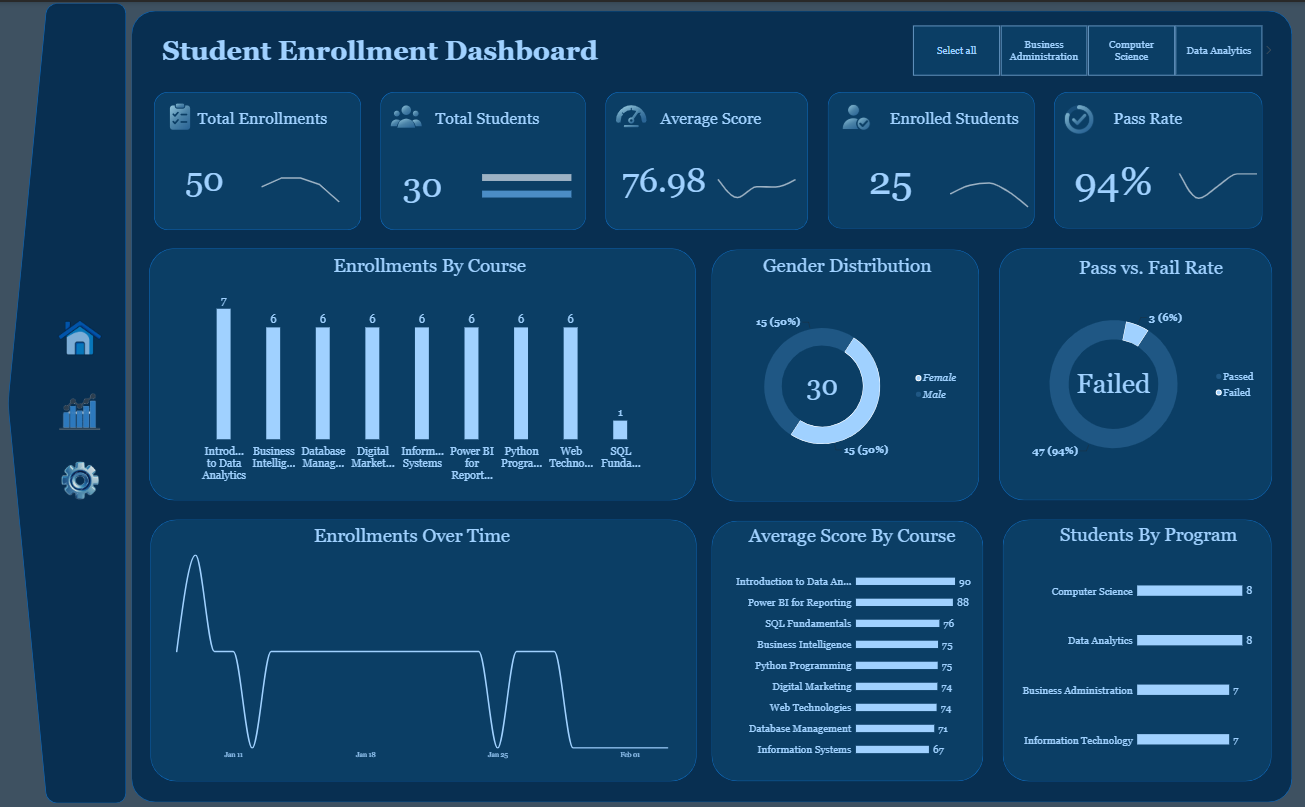

What the dashboard file says about the page in this screenshot:
{"tool":"powerbi","page":{"name":"Student Enrollment ","canvas":[2600,1600],"ordinal":0},"visuals":[{"type":"shape","box":[16.9,3.3,234.1,1583.2],"z":0},{"type":"shape","box":[262,16.7,2296.7,1566.5],"z":1000},{"type":"shape","box":[297,488.4,1082.5,499],"z":2000},{"type":"shape","box":[754.7,178.4,406.9,273.2],"z":3000},{"type":"shape","box":[2087.7,178.4,412.5,270.4],"z":4000},{"type":"shape","box":[1639.6,178.4,409.7,270.4],"z":5000},{"type":"shape","box":[306.6,178.4,409.7,273.2],"z":6000},{"type":"shape","box":[1199.9,178.4,401.4,273.2],"z":7000},{"type":"shape","box":[298.2,1022.9,1081.5,518.4],"z":8000},{"type":"shape","box":[1410.4,490.6,529.6,498.9],"z":9000},{"type":"shape","box":[1979,487.8,540.7,498.9],"z":10000},{"type":"shape","box":[1410.4,1025.7,538,515.7],"z":11000},{"type":"shape","box":[1987.4,1022.9,532.4,518.4],"z":12000},{"type":"image","box":[114.3,621.6,94.8,97.6],"z":13000},{"type":"image","box":[114.3,773.9,94.8,80],"z":14000},{"type":"image","box":[114.3,908.7,94,80],"z":15000},{"type":"textbox","box":[306.6,66.9,894.7,83.6],"z":16000},{"type":"textbox","box":[376.3,211.8,298.2,47.4],"z":17000},{"type":"textbox","box":[811.1,211.8,317.8,41.8],"z":18000},{"type":"textbox","box":[1276.6,211.8,264.8,47.4],"z":19000},{"type":"textbox","box":[1730.9,211.8,317.8,41.8],"z":20000},{"type":"textbox","box":[2171.3,211.8,203.5,47.4],"z":21000},{"type":"textbox","box":[2101.6,504.5,354,47.4],"z":22000},{"type":"textbox","box":[1502.4,498.9,354,47.4],"z":23000},{"type":"textbox","box":[577,498.9,551.9,47.4],"z":24000},{"type":"textbox","box":[577,1034.1,490.6,72.5],"z":25000},{"type":"textbox","box":[1438.3,1034.1,501.7,47.4],"z":26000},{"type":"textbox","box":[2098.8,1031.3,354,47.4],"z":27000},{"type":"cardVisual","fields":{"Data":["Enrollment.Total Enrollments"]},"box":[376.3,253.6,175.6,133.8],"z":28000},{"type":"cardVisual","fields":{"Data":["Enrollment.Total Students"]},"box":[811.1,264.8,167.2,108.7],"z":29000},{"type":"cardVisual","fields":{"Data":["Enrollment.Average Score"]},"box":[1257.1,242.5,242.5,142.2],"z":30000},{"type":"cardVisual","fields":{"Data":["Enrollment.Enrolled Students"]},"box":[1697.5,253.6,170,117.1],"z":31000},{"type":"cardVisual","fields":{"Data":["Enrollment.Pass Rate"]},"box":[2135.1,267.6,206.3,105.9],"z":32000},{"type":"clusteredColumnChart","fields":{"Category":["Courses.Course_Name"],"Y":["Enrollment.Total Enrollments"]},"box":[317.8,551.9,1042.5,415.3],"z":33000},{"type":"lineChart","fields":{"Category":["Date.Date.Variation.Date Hierarchy.Year","Date.Date.Variation.Date Hierarchy.Quarter","Date.Date.Variation.Date Hierarchy.Month","Date.Date.Variation.Date Hierarchy.Day"],"Y":["Enrollment.Total Enrollments"]},"box":[317.8,1070.3,1042.5,446],"z":34000},{"type":"donutChart","fields":{"Category":["Students.Gender"],"Y":["Enrollment.Total Students"]},"box":[1429.9,554.7,490.6,412.5],"z":35000},{"type":"donutChart","fields":{"Category":["Enrollment.Status"],"Y":["Enrollment.Total Enrollments"]},"box":[1998.5,546.3,490.6,412.5],"z":36000},{"type":"clusteredBarChart","fields":{"Category":["Courses.Course_Name"],"Y":["Enrollment.Average Score"]},"box":[1429.9,1078.7,510.1,462.7],"z":37000},{"type":"clusteredBarChart","fields":{"Category":["Students.Program"],"Y":["Enrollment.Total Students"]},"box":[1987.4,1106.6,510.1,409.7],"z":38000},{"type":"slicer","fields":{"Values":["Students.Program"]},"box":[1789.5,44.6,730.3,103.1],"z":39000},{"type":"image","box":[317.8,195.1,83.6,64.1],"z":40000},{"type":"image","box":[764.2,195.1,83,64],"z":41000},{"type":"image","box":[1210,189.5,83,64],"z":42000},{"type":"image","box":[1655.8,195.1,83,64.1],"z":43000},{"type":"image","box":[2101.6,200.7,69.7,64.1],"z":44000},{"type":"lineChart","fields":{"Category":["Date.Week Start.Variation.Date Hierarchy.Year","Date.Week Start.Variation.Date Hierarchy.Quarter","Date.Week Start.Variation.Date Hierarchy.Month","Date.Week Start.Variation.Date Hierarchy.Day"],"Y":["Enrollment.Total Enrollments"]},"box":[473.8,348.4,203.5,103.1],"z":45000},{"type":"lineChart","fields":{"Category":["Date.Week Start.Variation.Date Hierarchy.Year","Date.Week Start.Variation.Date Hierarchy.Quarter","Date.Week Start.Variation.Date Hierarchy.Month","Date.Week Start.Variation.Date Hierarchy.Day"],"Y":["Enrollment.Average Score"]},"box":[1379.7,356.8,203.5,103.1],"z":46000},{"type":"lineChart","fields":{"Category":["Date.Week Start.Variation.Date Hierarchy.Year","Date.Week Start.Variation.Date Hierarchy.Quarter","Date.Week Start.Variation.Date Hierarchy.Month","Date.Week Start.Variation.Date Hierarchy.Day"],"Y":["Enrollment.Enrolled Students"]},"box":[1820.1,331.7,203.5,103.1],"z":47000},{"type":"hundredPercentStackedBarChart","fields":{"Category":["Students.Student Status"],"Y":["Enrollment.Total Students"]},"box":[939.3,326.1,209,119.9],"z":48000},{"type":"lineChart","fields":{"Category":["Date.Week Start.Variation.Date Hierarchy.Year","Date.Week Start.Variation.Date Hierarchy.Quarter","Date.Week Start.Variation.Date Hierarchy.Month","Date.Week Start.Variation.Date Hierarchy.Day"],"Y":["Enrollment.Pass Rate"]},"box":[2299.5,348.4,203.5,103.1],"z":49000}]}

Visuals, with their boxes on the page's 2600x1600 design canvas (x1, y1, x2, y2). These are canvas units, not pixel positions in the 1305x807 screenshot, which may show the page scaled, cropped or inside an application window:
shape: region(17, 3, 251, 1586)
shape: region(262, 17, 2559, 1583)
shape: region(297, 488, 1380, 987)
shape: region(755, 178, 1162, 452)
shape: region(2088, 178, 2500, 449)
shape: region(1640, 178, 2049, 449)
shape: region(307, 178, 716, 452)
shape: region(1200, 178, 1601, 452)
shape: region(298, 1023, 1380, 1541)
shape: region(1410, 491, 1940, 990)
shape: region(1979, 488, 2520, 987)
shape: region(1410, 1026, 1948, 1541)
shape: region(1987, 1023, 2520, 1541)
image: region(114, 622, 209, 719)
image: region(114, 774, 209, 854)
image: region(114, 909, 208, 989)
textbox: region(307, 67, 1201, 150)
textbox: region(376, 212, 674, 259)
textbox: region(811, 212, 1129, 254)
textbox: region(1277, 212, 1541, 259)
textbox: region(1731, 212, 2049, 254)
textbox: region(2171, 212, 2375, 259)
textbox: region(2102, 504, 2456, 552)
textbox: region(1502, 499, 1856, 546)
textbox: region(577, 499, 1129, 546)
textbox: region(577, 1034, 1068, 1107)
textbox: region(1438, 1034, 1940, 1082)
textbox: region(2099, 1031, 2453, 1079)
cardVisual - Enrollment.Total Enrollments: region(376, 254, 552, 387)
cardVisual - Enrollment.Total Students: region(811, 265, 978, 374)
cardVisual - Enrollment.Average Score: region(1257, 242, 1500, 385)
cardVisual - Enrollment.Enrolled Students: region(1698, 254, 1868, 371)
cardVisual - Enrollment.Pass Rate: region(2135, 268, 2341, 374)
clusteredColumnChart - Courses.Course_Name x Enrollment.Total Enrollments: region(318, 552, 1360, 967)
lineChart - Date.Date.Variation.Date Hierarchy.Year x Date.Date.Variation.Date Hierarchy.Quarter: region(318, 1070, 1360, 1516)
donutChart - Students.Gender x Enrollment.Total Students: region(1430, 555, 1920, 967)
donutChart - Enrollment.Status x Enrollment.Total Enrollments: region(1998, 546, 2489, 959)
clusteredBarChart - Courses.Course_Name x Enrollment.Average Score: region(1430, 1079, 1940, 1541)
clusteredBarChart - Students.Program x Enrollment.Total Students: region(1987, 1107, 2498, 1516)
slicer - Students.Program: region(1790, 45, 2520, 148)
image: region(318, 195, 401, 259)
image: region(764, 195, 847, 259)
image: region(1210, 190, 1293, 254)
image: region(1656, 195, 1739, 259)
image: region(2102, 201, 2171, 265)
lineChart - Date.Week Start.Variation.Date Hierarchy.Year x Date.Week Start.Variation.Date Hierarchy.Quarter: region(474, 348, 677, 452)
lineChart - Date.Week Start.Variation.Date Hierarchy.Year x Date.Week Start.Variation.Date Hierarchy.Quarter: region(1380, 357, 1583, 460)
lineChart - Date.Week Start.Variation.Date Hierarchy.Year x Date.Week Start.Variation.Date Hierarchy.Quarter: region(1820, 332, 2024, 435)
hundredPercentStackedBarChart - Students.Student Status x Enrollment.Total Students: region(939, 326, 1148, 446)
lineChart - Date.Week Start.Variation.Date Hierarchy.Year x Date.Week Start.Variation.Date Hierarchy.Quarter: region(2300, 348, 2503, 452)
